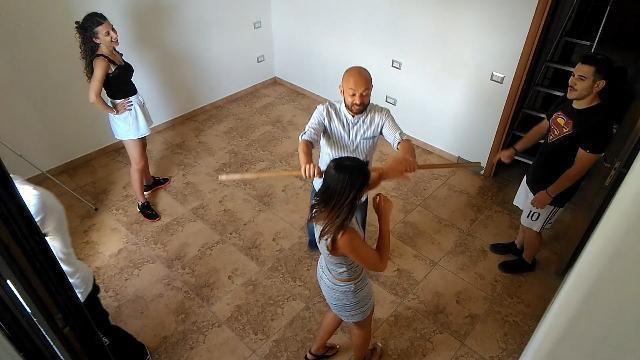non-violence: (68, 10, 184, 226), (516, 40, 614, 262)
violence: (218, 65, 486, 360)
